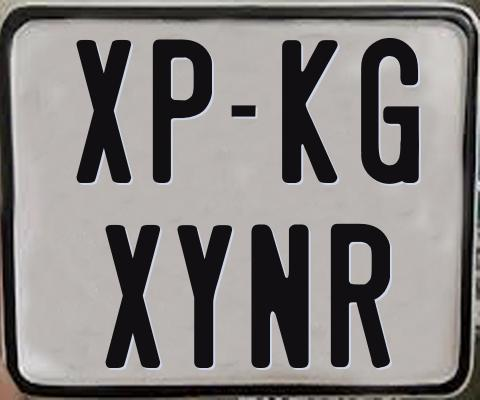G: (361, 36, 419, 187)
K: (282, 38, 343, 185)
N: (249, 223, 310, 367)
P: (151, 37, 213, 183)
R: (330, 224, 390, 374)
X: (104, 224, 161, 367), (76, 38, 131, 182)
Y: (176, 223, 235, 370)
